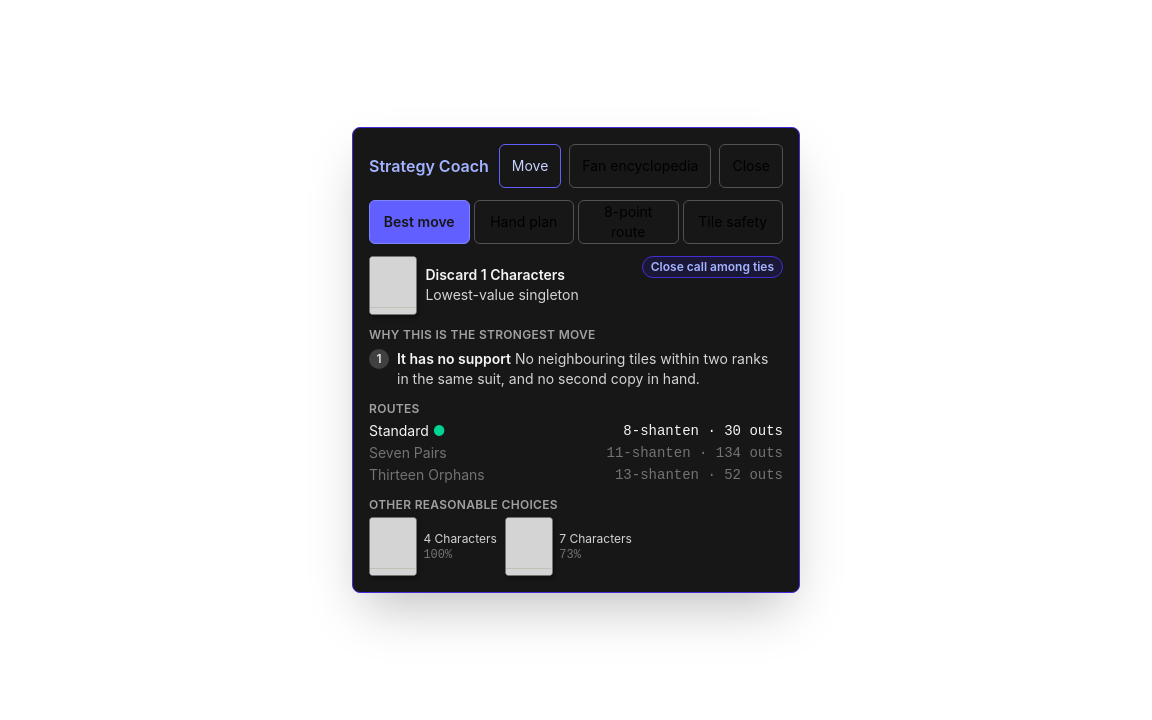
HintPanel › shows a safety rating on the Tile safety tab once a tile is selected
This screenshot has width=1152, height=720.
Click the tab "Tile safety": click(733, 222) [682, 200, 783, 244]
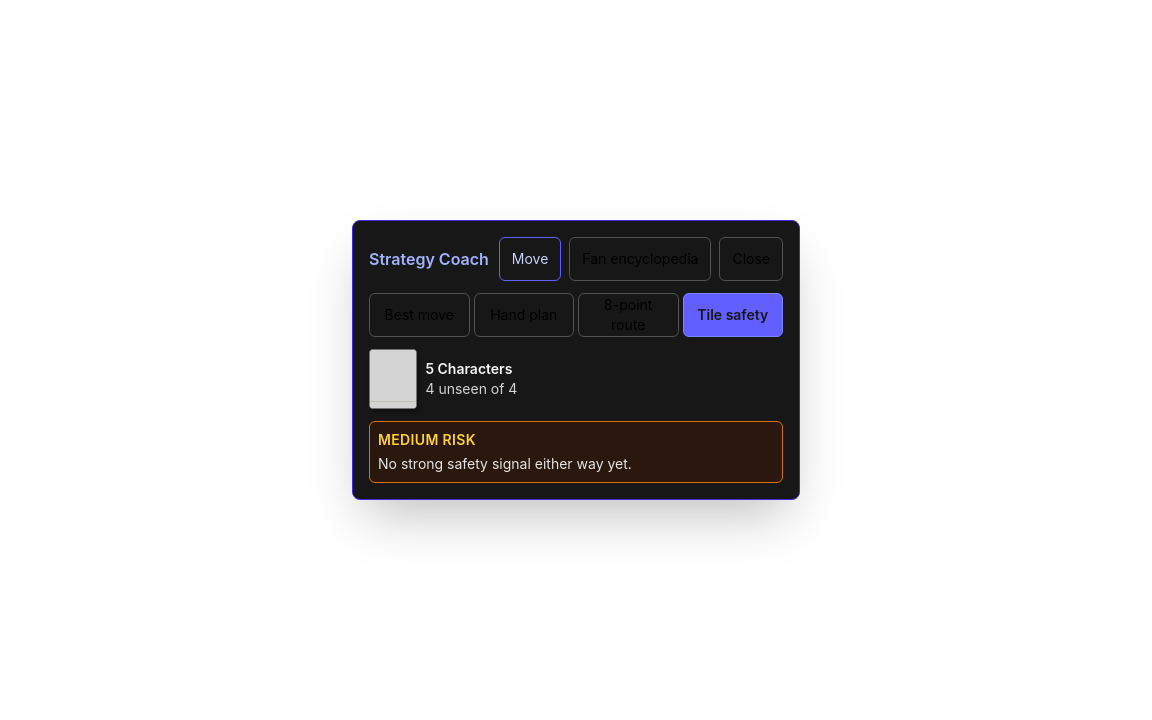
expect the element with test id "tile-safety-rating" is shown: met, box [369, 421, 783, 483]
